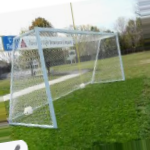goals: (5, 25, 128, 130)
